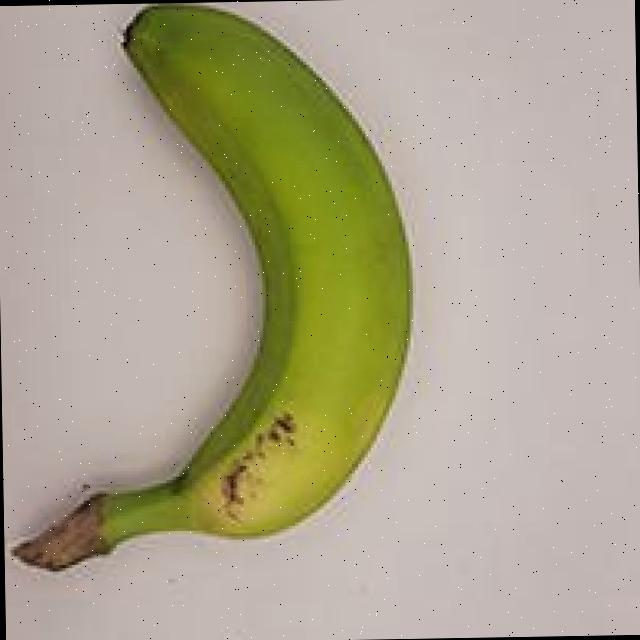Unripe: (0, 0, 439, 579)
